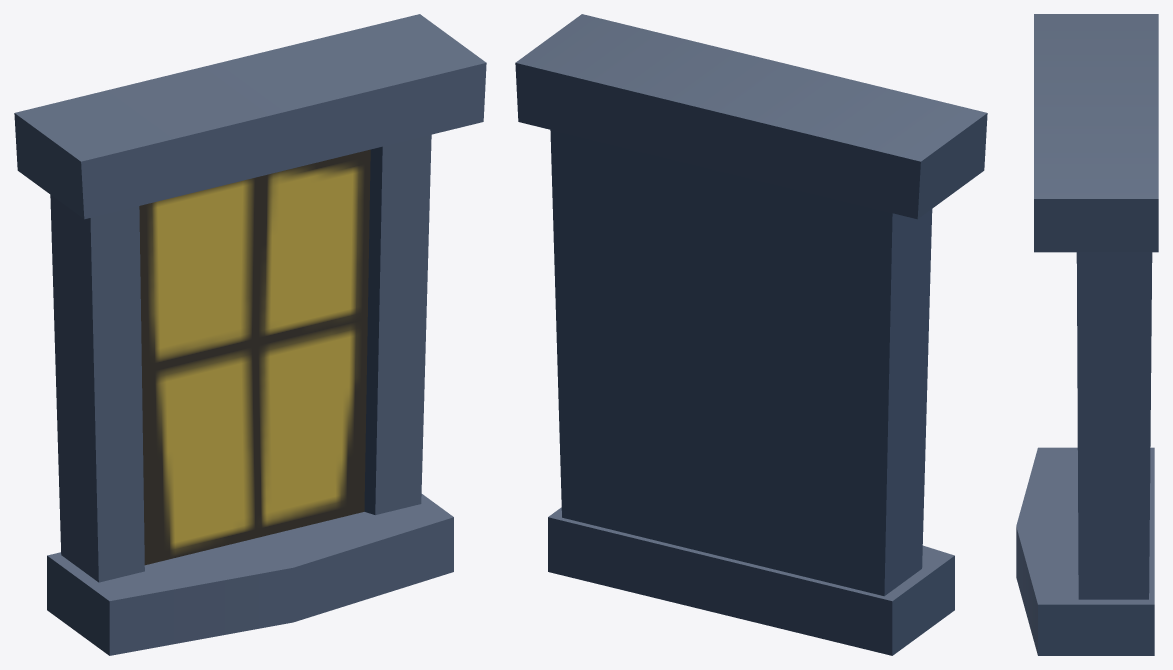
File: Window_A2.fbx
3 renders of one model, left to right at view 1: azimuth 30°, elevation 25°; view 2: azimuth 150°, elevation 25°; view 3: azimuth 270°, elevation 25°, orthographic. The views are drawn at different scales.
Parts seen in each view (by area): view 1: Window_A2; view 2: Window_A2; view 3: Window_A2.
Part boxes in pixels (left/top/right/bottom): Window_A2: left=14, top=14, right=486, bottom=655; Window_A2: left=515, top=14, right=987, bottom=655; Window_A2: left=1016, top=14, right=1158, bottom=655.
Size of the model in its own units: 158 by 187 by 51.42.
